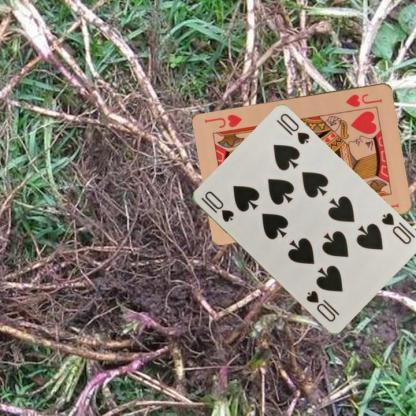10s: (198, 188, 235, 224), (378, 210, 412, 246)
Jh: (343, 91, 384, 108)
